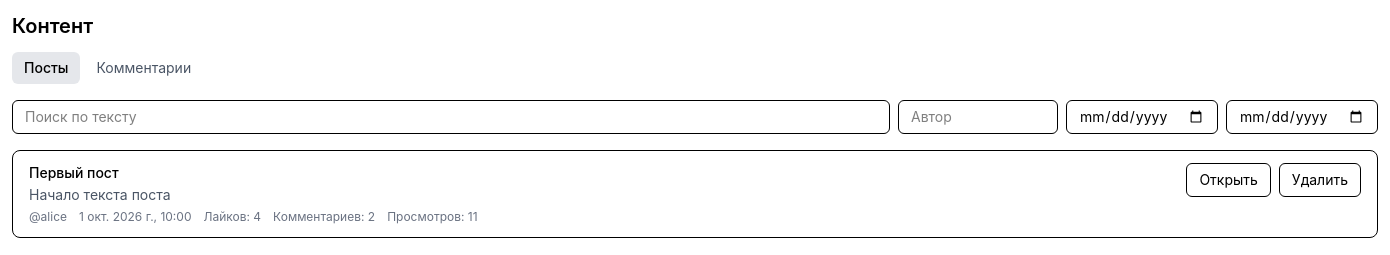
Test: AdminContentPage: комментарии › вкладка показывает комментарии с постом и автором
The width and height of the screenshot is (1390, 255).
Click the button "Комментарии".
click(144, 68)  # box left=84, top=52, right=203, bottom=84
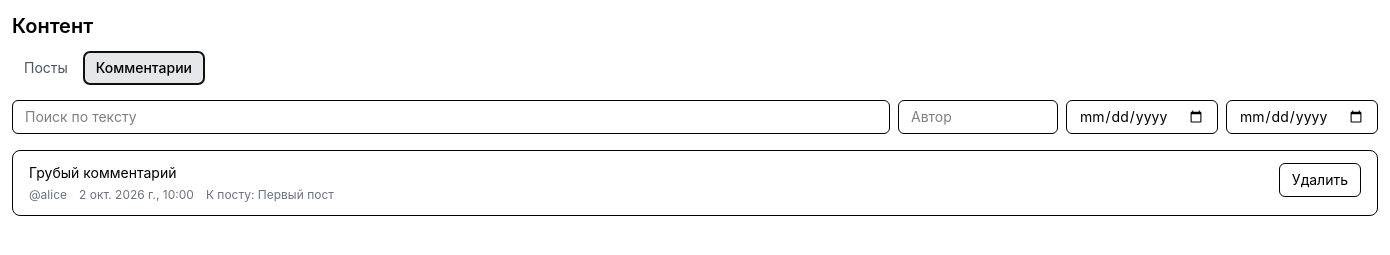
Expected: the link "@alice" is shown, left=29, top=187, right=67, bottom=203
Expected: the text "Грубый комментарий" is shown, left=29, top=164, right=176, bottom=181
Expected: the text "К посту: Первый пост" is shown, left=206, top=187, right=334, bottom=203
